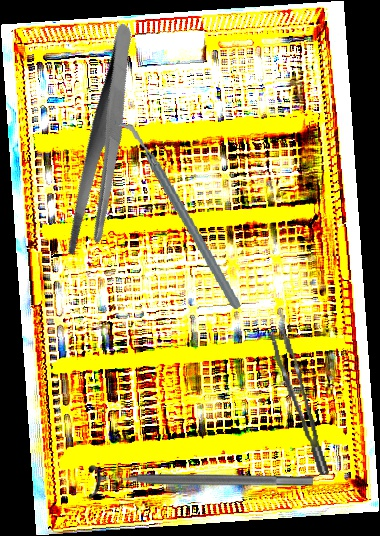Chopper: (114, 108, 243, 321)
Dressing Forceps: (18, 21, 191, 265)
Fixation Ring: (89, 464, 313, 499)
Tissue Forceps: (269, 326, 330, 480)
